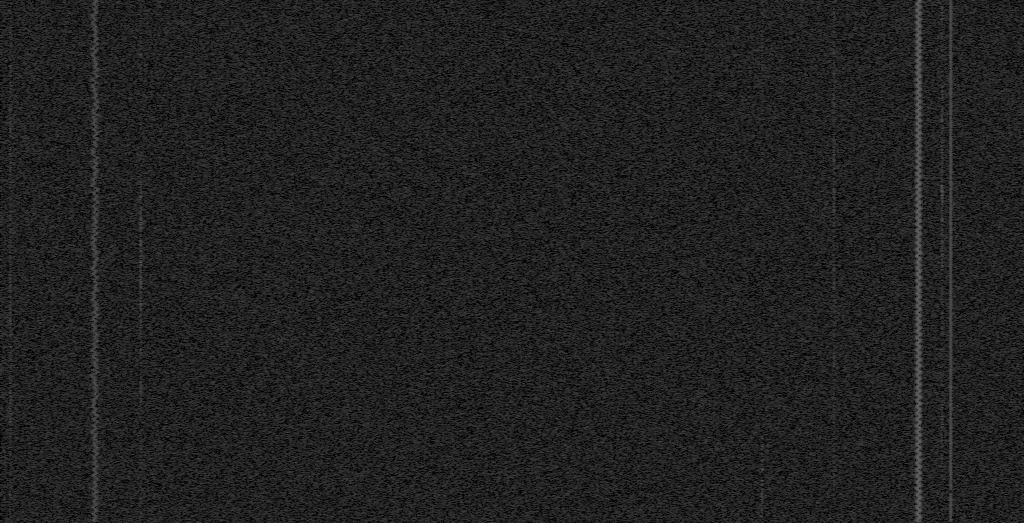wv_cw: (948, 0, 953, 490), (948, 493, 953, 522)
wv_lsb: (138, 169, 144, 337), (8, 105, 13, 202), (759, 442, 765, 515), (8, 364, 13, 443), (760, 4, 764, 100), (832, 176, 836, 272), (8, 231, 13, 305), (832, 59, 836, 132), (138, 368, 143, 422), (8, 55, 13, 104), (8, 6, 13, 54), (832, 465, 836, 522), (8, 306, 13, 350), (139, 448, 143, 501), (8, 465, 13, 503), (832, 344, 836, 391), (138, 338, 143, 367), (832, 294, 836, 327), (831, 8, 837, 29), (139, 30, 143, 61), (760, 122, 764, 150), (8, 203, 13, 224), (139, 141, 143, 167), (832, 400, 836, 423), (832, 136, 836, 158), (832, 273, 836, 293), (8, 449, 13, 464), (139, 11, 143, 29), (8, 504, 13, 518), (832, 159, 836, 175), (832, 328, 836, 343), (139, 107, 143, 121), (832, 44, 836, 58), (8, 352, 13, 363), (139, 72, 143, 84), (832, 31, 836, 43), (139, 423, 143, 433), (139, 93, 143, 103), (832, 454, 836, 464), (832, 443, 836, 453), (139, 127, 143, 136), (139, 62, 143, 71), (139, 439, 143, 447), (832, 424, 836, 432), (139, 515, 143, 522), (832, 392, 836, 399), (760, 516, 764, 522), (760, 108, 764, 114), (139, 502, 143, 508), (760, 151, 764, 157), (760, 102, 764, 107), (760, 435, 765, 439), (139, 509, 143, 514), (139, 87, 143, 92), (760, 166, 764, 171), (8, 444, 13, 448), (761, 115, 764, 121), (761, 158, 764, 164), (139, 434, 143, 438), (139, 122, 143, 126), (9, 225, 12, 230), (761, 189, 764, 193), (761, 181, 764, 185), (761, 174, 764, 178), (832, 437, 836, 440), (832, 433, 836, 436), (139, 137, 142, 140), (9, 519, 12, 522)
wv_usb: (939, 113, 945, 227), (939, 228, 945, 297), (939, 398, 945, 462), (940, 463, 944, 499), (940, 346, 944, 381), (940, 298, 944, 330), (940, 79, 945, 101), (940, 31, 944, 56), (940, 57, 944, 78), (940, 500, 944, 519), (940, 17, 945, 30), (940, 382, 944, 397), (940, 5, 945, 16), (940, 102, 945, 112), (940, 331, 944, 338), (940, 339, 944, 345)
wv_wbfm: (88, 0, 102, 522), (912, 0, 924, 522)
